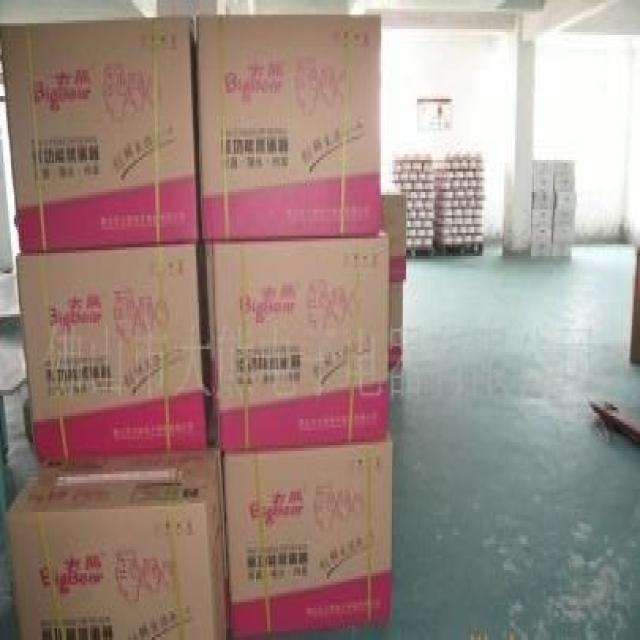box: (0, 0, 342, 497), (0, 486, 326, 640)
